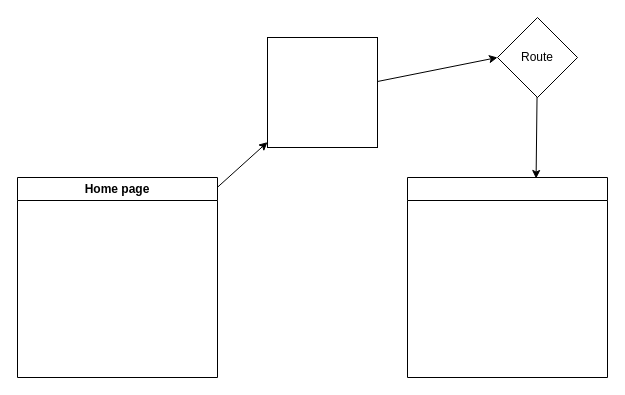
The diagram is 625 pixels wide and 395 high, and some of its shapes have lost their labels. Each missing label, with the box of its shape:
Add page: (406, 176, 608, 378)
Controller: (266, 36, 378, 148)
